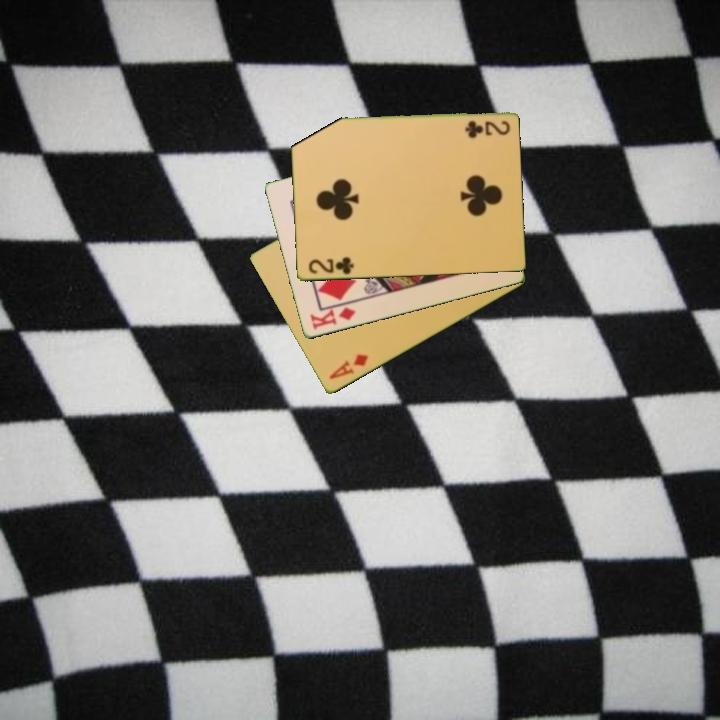2c: (305, 253, 357, 278), (461, 117, 512, 138)
Ad: (326, 351, 371, 383)
Kd: (307, 304, 358, 333)
